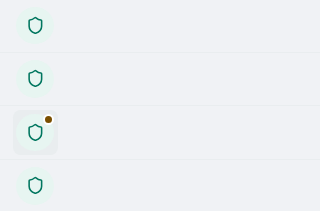
Test: SideMenu rail › UXP-02 rail entries have names, tooltips and the restart state
The width and height of the screenshot is (320, 211).
Hover over the link named "Send policy" at (35, 79), box x1=16 y1=60 x2=54 y2=98
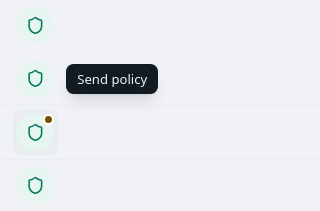
Expected: the tooltip reads "Send policy", x1=77 y1=70 x2=147 y2=88
